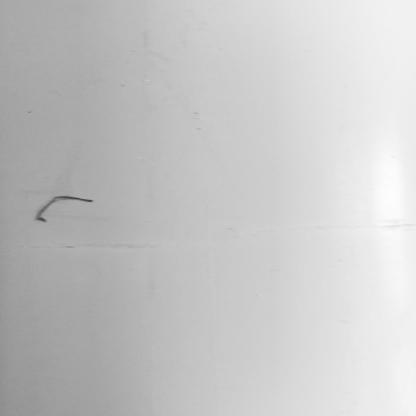fengxi: (25, 191, 102, 221)
